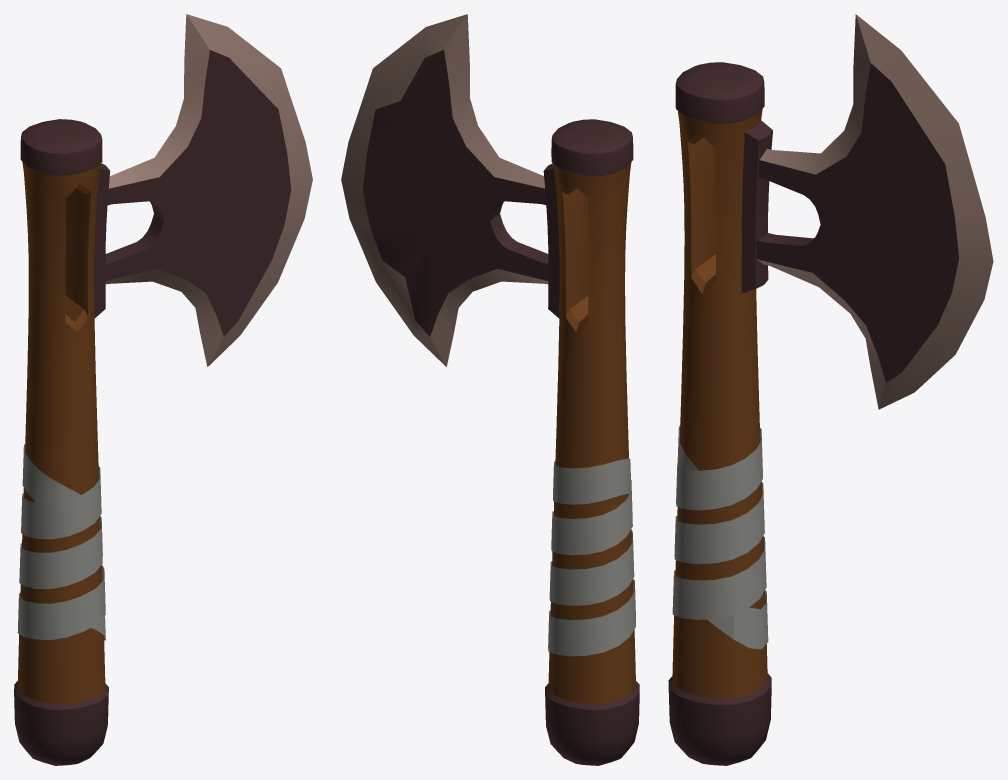
File: Weapon_Axe.glb
3 renders of one model, left to right at view 1: azimuth 30°, elevation 25°; view 2: azimuth 150°, elevation 25°; view 3: azimuth 330°, elevation 25°, orthographic. The views are drawn at different scales.
Parts seen in each view (by area): view 1: Weapon_Axe; view 2: Weapon_Axe; view 3: Weapon_Axe.
Part boxes in pixels (box(x1,y1,x2,y2)): Weapon_Axe: box(14, 14, 312, 765); Weapon_Axe: box(341, 14, 639, 765); Weapon_Axe: box(668, 14, 993, 765).
Bounding box in the file's own units: 0.4467 × 1.05 × 0.1247.
1 material, 1 textured.
